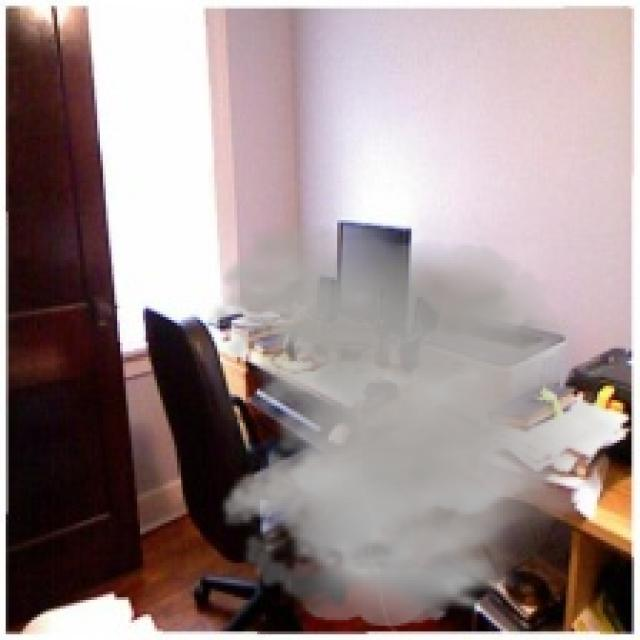smoke: (209, 223, 634, 626)
